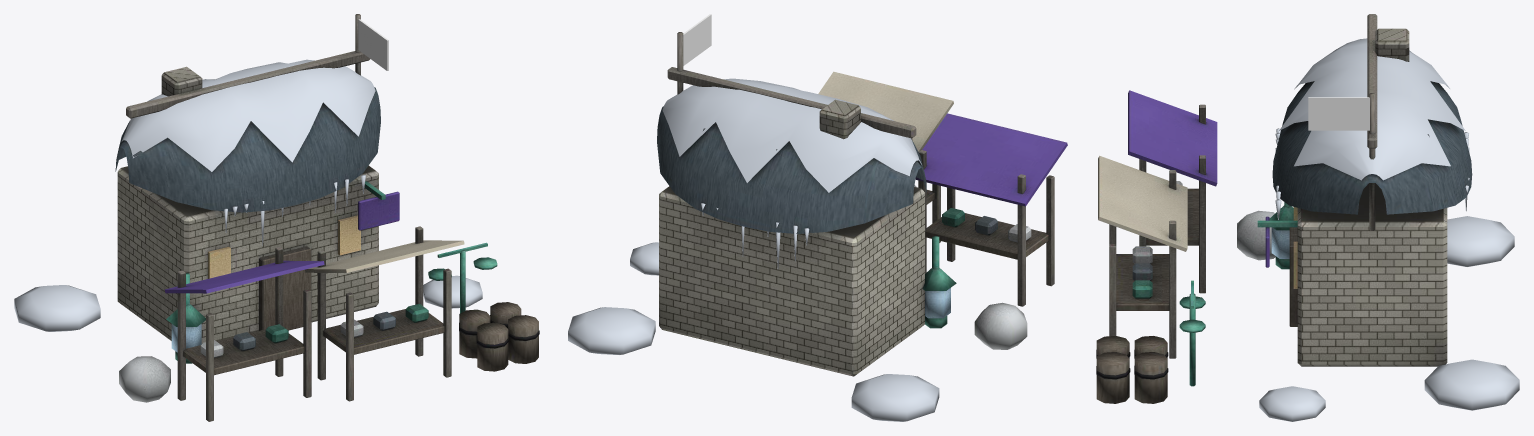
Rendered from salz_market.glb.
The picture shows the model from 3 angles, left to right: view 1: azimuth 30°, elevation 25°; view 2: azimuth 150°, elevation 25°; view 3: azimuth 270°, elevation 25°; orthographic projection. The views are drawn at different scales.
Visible parts, largest first — view 1: salz_market, Schnee, Fahne1; view 2: salz_market, Schnee, Fahne1; view 3: salz_market, Schnee, Fahne1.
Boxes of the visible parts, x1,y1,x2,y2 form: salz_market: (115,14,539,421); Schnee: (14,59,482,331); Fahne1: (358,19,388,70); salz_market: (657,32,1067,376); Schnee: (568,78,939,421); Fahne1: (683,14,711,65); salz_market: (1096,14,1472,403); Schnee: (1259,38,1519,421); Fahne1: (1308,97,1369,130).
Bounding box in the file's own units: 4.66 × 3.32 × 4.24.
3 materials, 1 textured.
